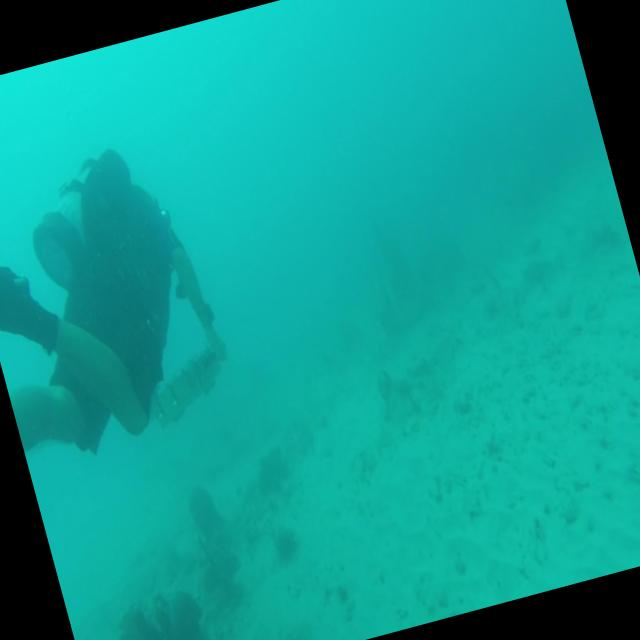human: (0, 129, 244, 472)
